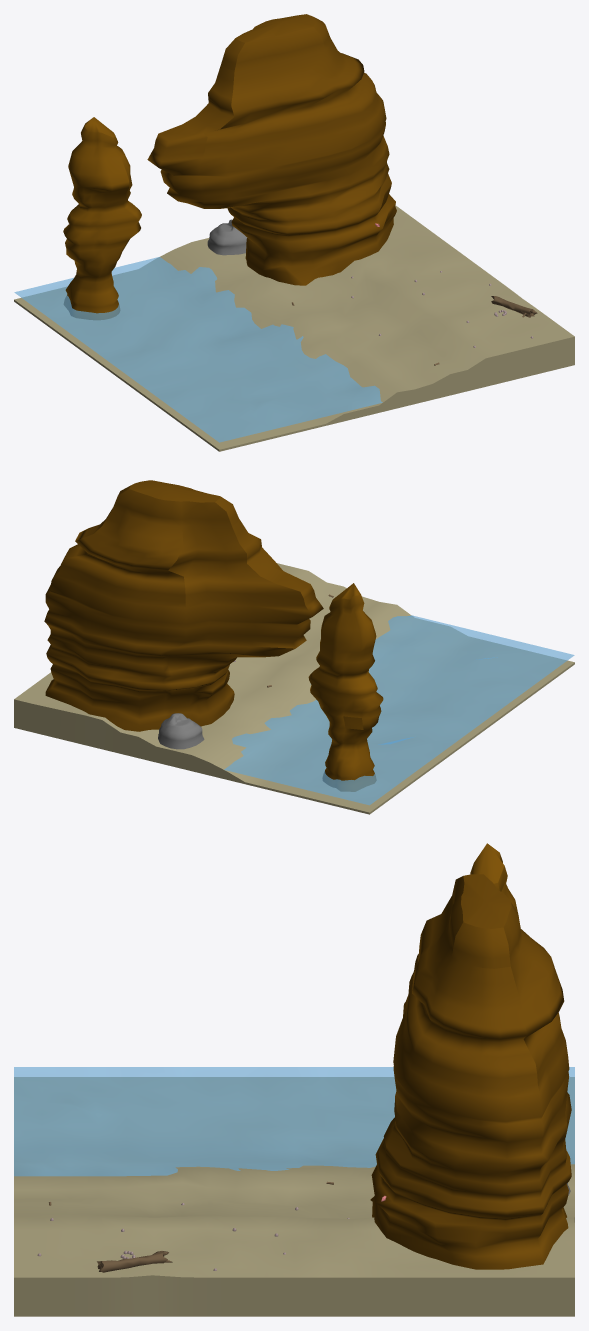
Rendered from beach_export.fbx.
The picture shows the model from 3 angles, top to bottom: view 1: azimuth 30°, elevation 25°; view 2: azimuth 150°, elevation 25°; view 3: azimuth 270°, elevation 25°; orthographic projection. The views are drawn at different scales.
Parts seen in each view (by area): view 1: Sand, HillRock, Ocean, WaterRock, MelodyRock; view 2: HillRock, Sand, Ocean, WaterRock, MelodyRock; view 3: Sand, HillRock, Ocean, WaterRock, Log.
Part boxes in pixels (bbox=[...]): Sand: bbox=[14, 205, 574, 451]; HillRock: bbox=[147, 14, 396, 285]; Ocean: bbox=[14, 257, 382, 442]; WaterRock: bbox=[63, 117, 141, 319]; MelodyRock: bbox=[207, 219, 247, 255]; HillRock: bbox=[44, 480, 323, 731]; Sand: bbox=[14, 563, 574, 814]; Ocean: bbox=[224, 615, 574, 805]; WaterRock: bbox=[308, 583, 383, 791]; MelodyRock: bbox=[158, 713, 204, 749]; Sand: bbox=[14, 1077, 574, 1316]; HillRock: bbox=[370, 874, 571, 1269]; Ocean: bbox=[14, 1067, 574, 1176]; WaterRock: bbox=[470, 843, 517, 912]; Log: bbox=[97, 1251, 172, 1272].
Bounding box in the file's own units: 100 × 66.14 × 100.
